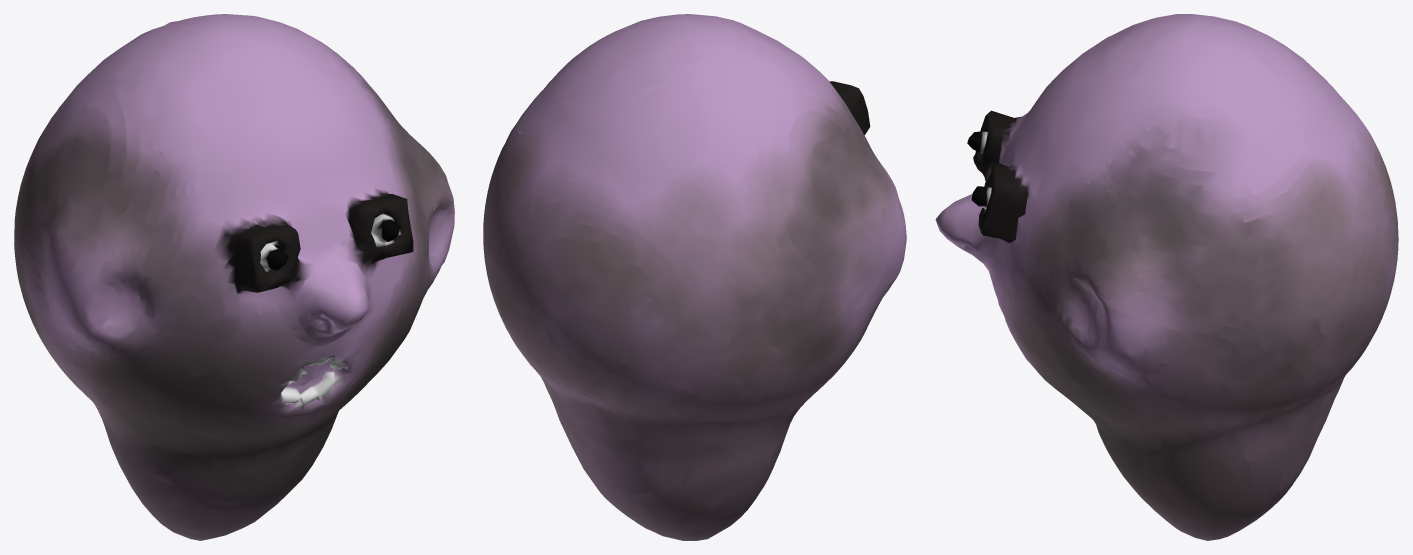
Rendered from lii_dudehead.gltf.
3 renders of one model, left to right at view 1: azimuth 30°, elevation 25°; view 2: azimuth 150°, elevation 25°; view 3: azimuth 270°, elevation 25°, orthographic. The views are drawn at different scales.
Visible parts, largest first — view 1: Layer_1; view 2: Layer_1; view 3: Layer_1.
Boxes of the visible parts, left/top/right/bottom form: Layer_1: left=14, top=14, right=454, bottom=540; Layer_1: left=483, top=14, right=906, bottom=540; Layer_1: left=935, top=14, right=1398, bottom=540.
Size of the model in its own units: 0.4186 by 0.5379 by 0.447.
